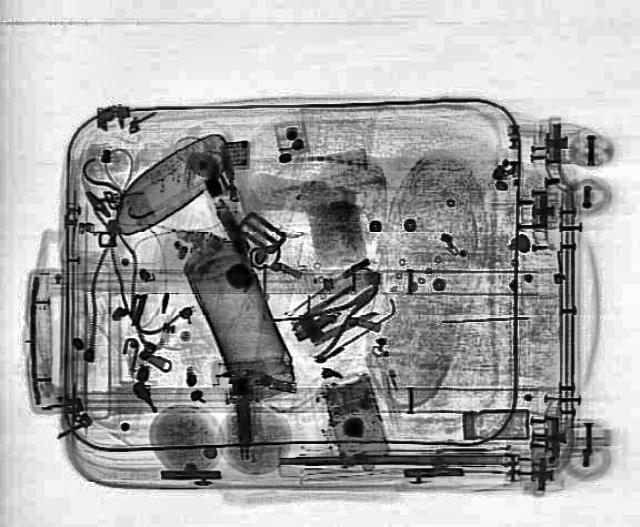Pliers: (278, 272, 396, 360)
